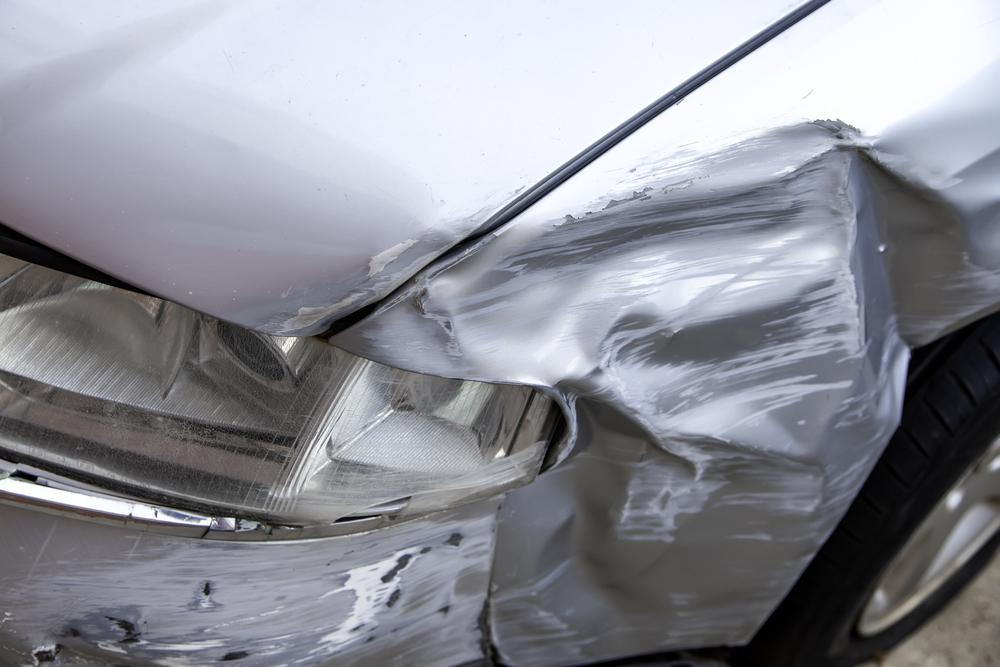dent: (334, 129, 1000, 667)
scratch: (0, 478, 578, 667), (250, 189, 521, 334)
